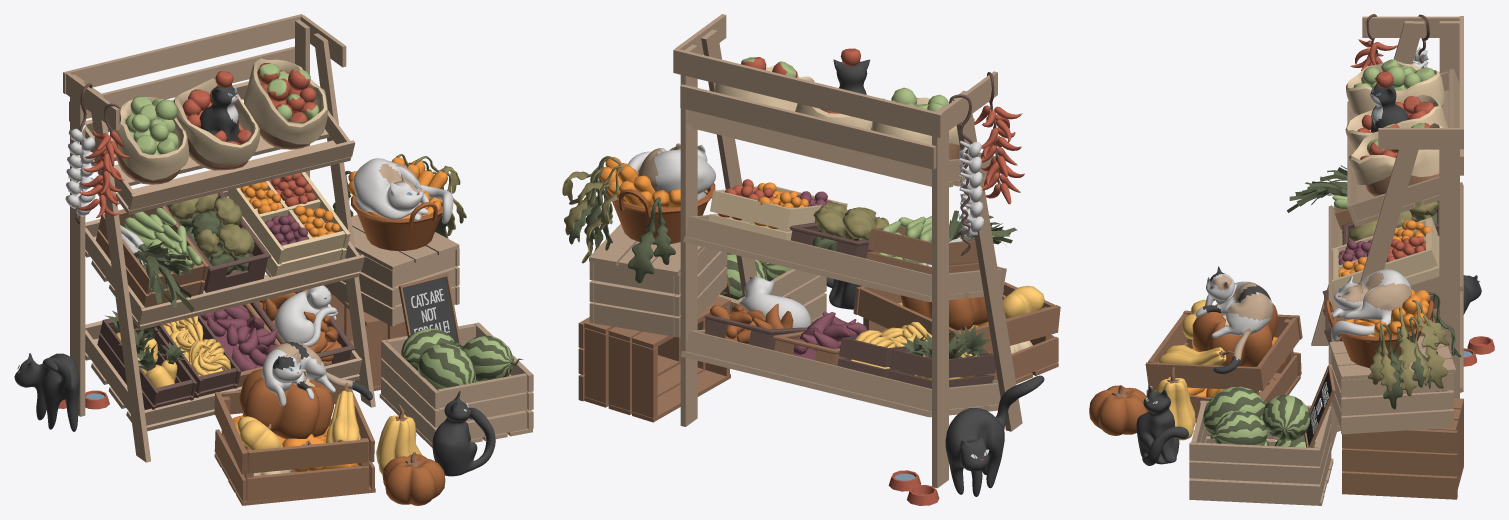
File: cat market fbx.fbx
3 renders of one model, left to right at view 1: azimuth 30°, elevation 25°; view 2: azimuth 150°, elevation 25°; view 3: azimuth 270°, elevation 25°, orthographic. The views are drawn at different scales.
Parts seen in each view (by area): view 1: polySurface44, polySurface41, pCube5, polySurface96, polySurface97, polySurface100, pSphere8, PM3D_Sphere3D2_3, polySurface1, pCube4, polySurface67, polySurface101 (+47 smaller); view 2: polySurface37, polySurface41, pCube5, polySurface92, polySurface96, pCube8, polySurface101, polySurface44, pCube1, PM3D_Sphere3D2_4, polySurface97, polySurface100 (+37 smaller); view 3: polySurface37, polySurface41, polySurface44, pCube1, PM3D_Sphere3D3, PM3D_Sphere3D2_3, pCube4, polySurface173, polySurface97, polySurface67, polySurface144, polySurface148 (+33 smaller).
Boxes of the visible parts, <box> form: polySurface44: <box>214,379,374,501</box>; polySurface41: <box>324,215,459,326</box>; pCube5: <box>63,14,303,94</box>; polySurface96: <box>85,190,364,324</box>; polySurface97: <box>85,81,355,210</box>; polySurface100: <box>91,88,150,462</box>; pSphere8: <box>239,369,333,439</box>; PM3D_Sphere3D2_3: <box>353,158,453,223</box>; polySurface1: <box>227,172,350,277</box>; pCube4: <box>313,33,375,407</box>; polySurface67: <box>243,58,327,149</box>; polySurface101: <box>70,74,85,416</box>; polySurface37: <box>578,296,730,422</box>; polySurface41: <box>589,223,727,337</box>; pCube5: <box>673,48,942,137</box>; polySurface92: <box>686,329,1000,411</box>; polySurface96: <box>686,215,1006,296</box>; pCube8: <box>680,84,936,169</box>; polySurface101: <box>932,105,948,488</box>; polySurface44: <box>853,282,1060,380</box>; pCube1: <box>680,44,697,426</box>; PM3D_Sphere3D2_4: <box>945,375,1044,496</box>; polySurface97: <box>686,110,995,183</box>; polySurface100: <box>952,90,1022,431</box>; polySurface37: <box>1342,398,1463,499</box>; polySurface41: <box>1329,336,1455,434</box>; polySurface44: <box>1145,310,1302,418</box>; pCube1: <box>1439,149,1459,398</box>; PM3D_Sphere3D3: <box>1195,266,1273,373</box>; PM3D_Sphere3D2_3: <box>1331,269,1411,341</box>; pCube4: <box>1329,149,1418,450</box>; polySurface173: <box>1136,384,1188,465</box>; polySurface97: <box>1347,68,1459,222</box>; polySurface67: <box>1348,123,1442,196</box>; polySurface144: <box>1189,442,1320,466</box>; polySurface148: <box>1189,478,1320,502</box>.
Bounding box in the file's own units: 23.99 × 18.79 × 20.71.
